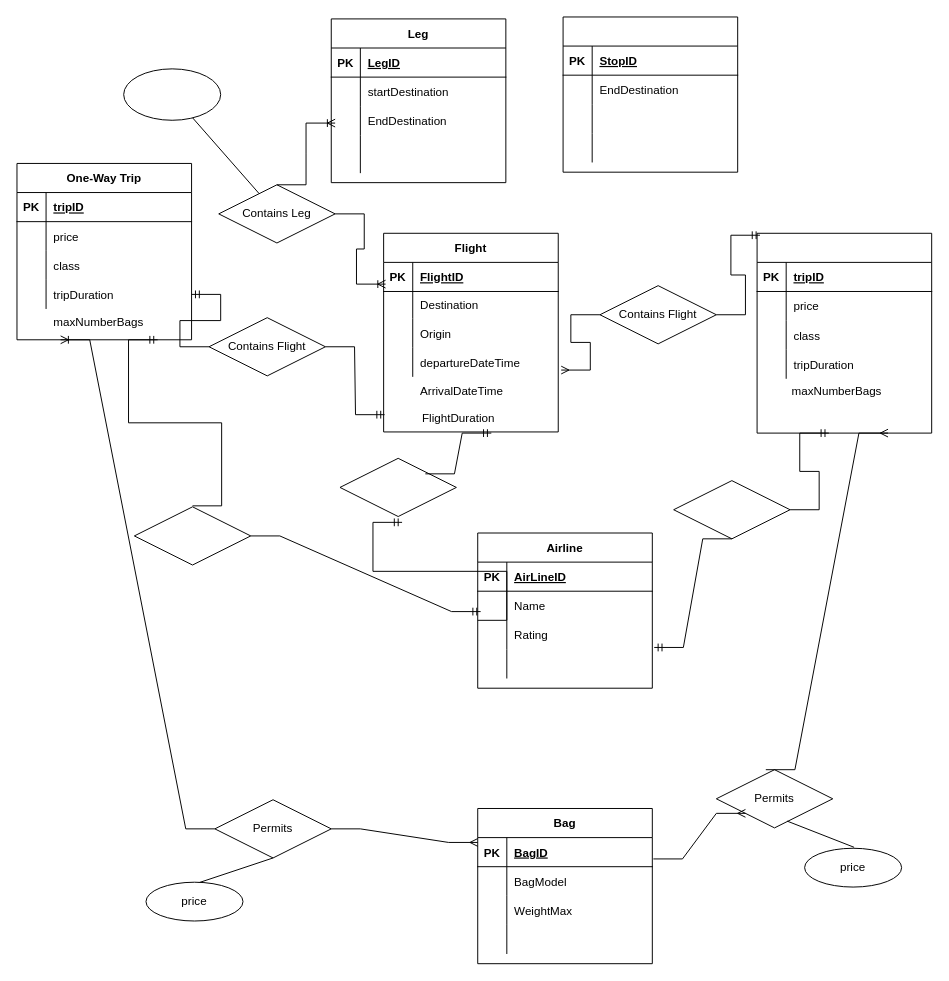
The diagram is 949 pixels wide and 981 high, and some of its shapes have lost their labels. The shapes that lost their labels are listed below. From the top down, each one's box as (x1, y1, x2, y2) in pixels, then its label:
(123, 68, 221, 120): Leg Duration
(562, 16, 738, 172): Stops
(756, 232, 932, 433): Two-Way Trip
(339, 457, 456, 517): Controls
(673, 480, 790, 539): Sold by
(133, 506, 251, 565): Sells
